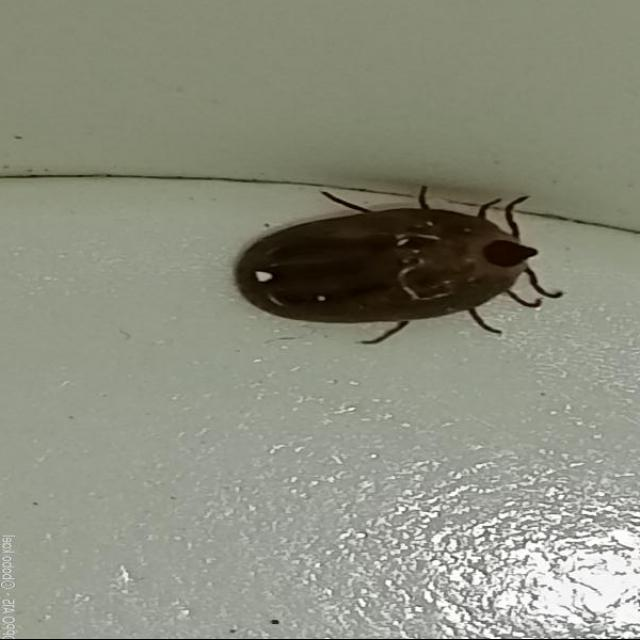Rhipicephalus Sanguineus-F-Fed: (231, 186, 565, 345)
